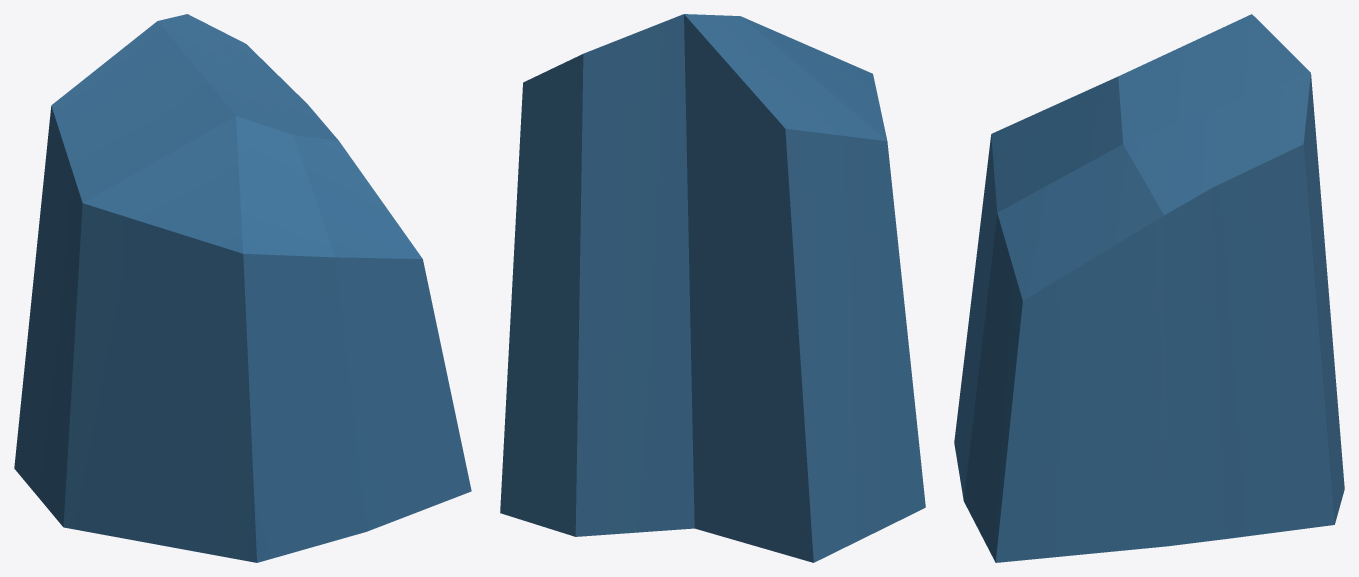
The model's file is SM_IceRock4.fbx.
3 views of the same model, side by side, from view 1: azimuth 30°, elevation 25°; view 2: azimuth 150°, elevation 25°; view 3: azimuth 270°, elevation 25° (orthographic). The views are drawn at different scales.
Visible parts, largest first — view 1: SM_IceRock4; view 2: SM_IceRock4; view 3: SM_IceRock4.
Boxes of the visible parts, <box> form: SM_IceRock4: <box>14,14,471,562</box>; SM_IceRock4: <box>500,14,925,562</box>; SM_IceRock4: <box>954,14,1344,562</box>.
Size of the model in its own units: 46.53 by 55.46 by 43.61.
